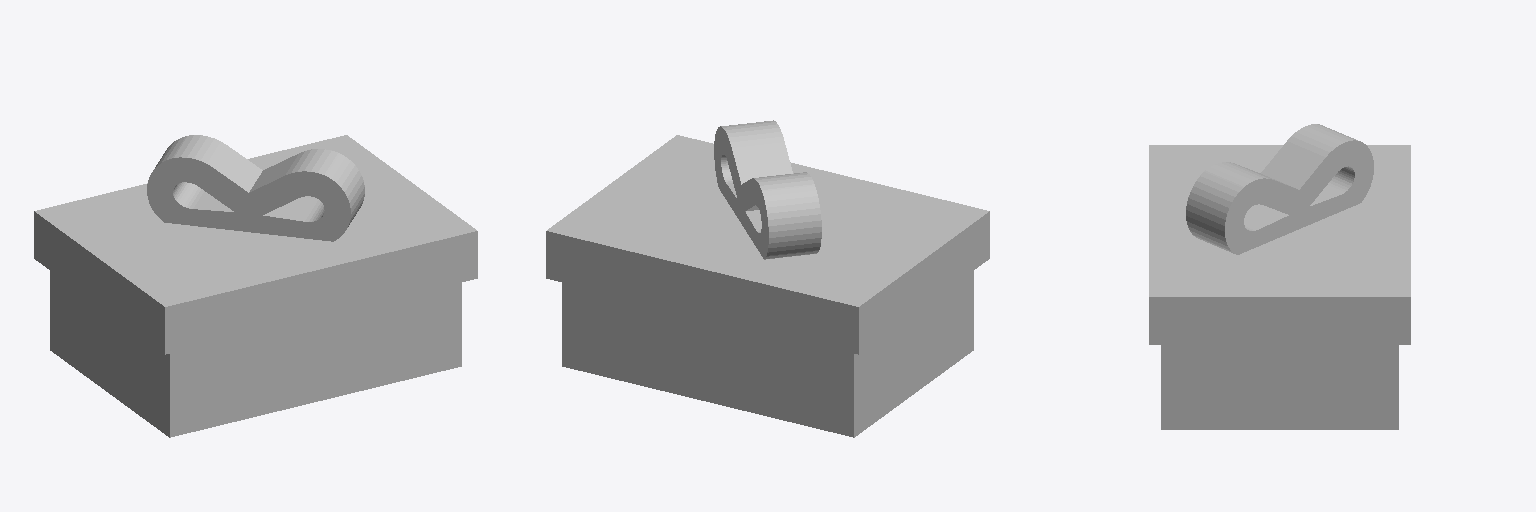
The model's file is presentLow.obj.
The picture shows the model from 3 angles: view 1: azimuth 30°, elevation 25°; view 2: azimuth 150°, elevation 25°; view 3: azimuth 270°, elevation 25°; orthographic projection.
Visible parts, largest first — view 1: lid, presentLow, tie; view 2: lid, presentLow, tie; view 3: lid, presentLow, tie.
Part boxes in pixels (bbox=[...]): lid: bbox=[34, 135, 477, 354]; presentLow: bbox=[50, 271, 461, 437]; tie: bbox=[147, 135, 364, 241]; lid: bbox=[546, 135, 989, 354]; presentLow: bbox=[562, 271, 973, 437]; tie: bbox=[714, 120, 821, 259]; lid: bbox=[1149, 145, 1410, 344]; presentLow: bbox=[1161, 345, 1398, 429]; tie: bbox=[1186, 124, 1373, 254].
Bounding box in the file's own units: 0.5127 × 0.3212 × 0.3727.